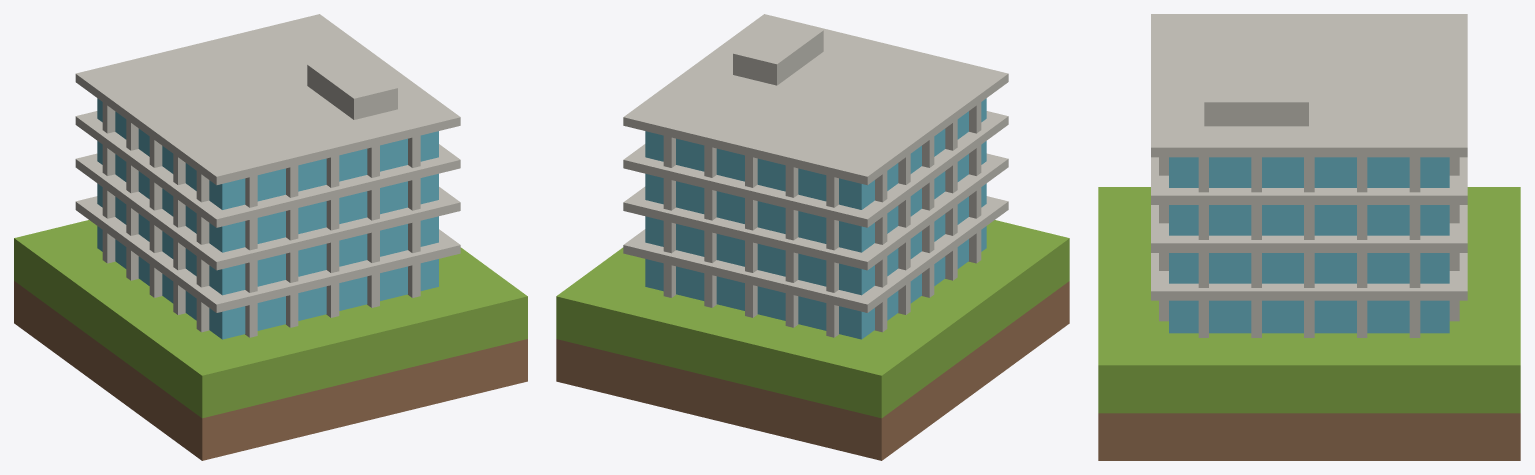
File: building-office-small.obj
3 renders of one model, left to right at view 1: azimuth 30°, elevation 25°; view 2: azimuth 150°, elevation 25°; view 3: azimuth 270°, elevation 25°, orthographic. The views are drawn at different scales.
Parts seen in each view (by area): view 1: building-office-small_Cube.130; view 2: building-office-small_Cube.130; view 3: building-office-small_Cube.130.
Part boxes in pixels (bbox=[...]): building-office-small_Cube.130: bbox=[14, 14, 527, 460]; building-office-small_Cube.130: bbox=[556, 14, 1069, 460]; building-office-small_Cube.130: bbox=[1098, 14, 1520, 460].
Bounding box in the file's own units: 8 × 6.55 × 8.
1 material, 1 textured.
